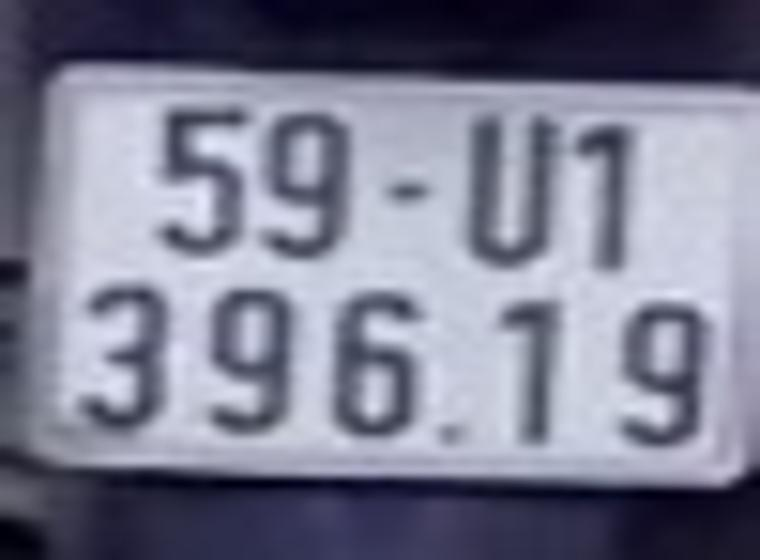-: (391, 183, 423, 202)
.: (440, 425, 457, 450)
1: (501, 300, 561, 445), (582, 126, 632, 271)
3: (81, 287, 164, 427)
5: (163, 107, 244, 254)
6: (331, 288, 415, 434)
9: (264, 114, 345, 256), (211, 293, 292, 434), (624, 304, 703, 448)
U: (468, 108, 553, 263)
